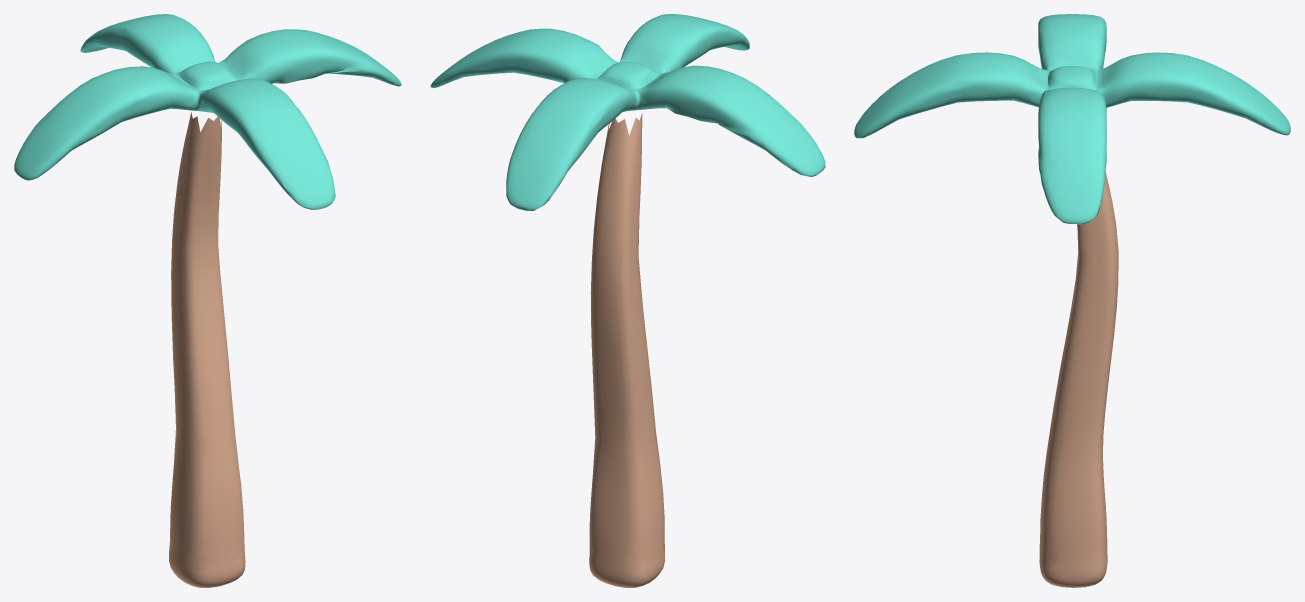
3 views of the same model, side by side, from view 1: azimuth 30°, elevation 25°; view 2: azimuth 150°, elevation 25°; view 3: azimuth 270°, elevation 25° (orthographic).
Size of the model in its own units: 0.7629 by 1 by 0.7629.
